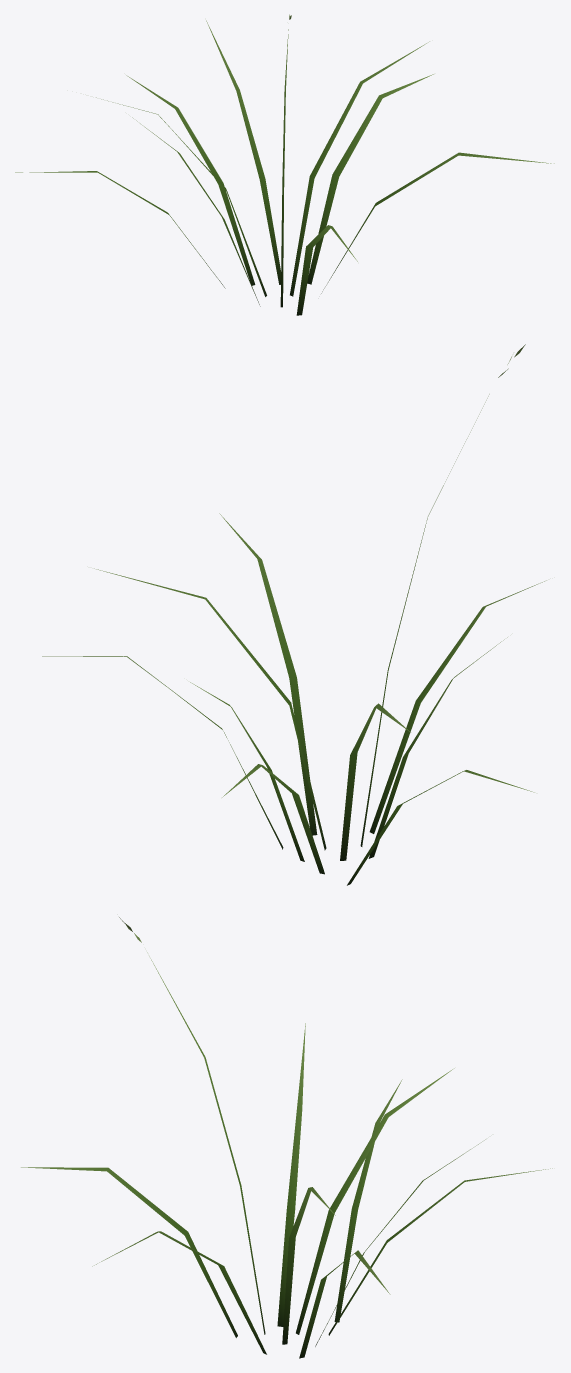
Rendered from b612_veg_VL_Grass_Meadow_C_1.glb.
3 renders of one model, top to bottom at view 1: azimuth 30°, elevation 25°; view 2: azimuth 150°, elevation 25°; view 3: azimuth 270°, elevation 25°, orthographic. The views are drawn at different scales.
Visible parts, largest first — view 1: Grass_Meadow_C_LOD1; view 2: Grass_Meadow_C_LOD1; view 3: Grass_Meadow_C_LOD1.
Boxes of the visible parts, x1,y1,x2,y2 form: Grass_Meadow_C_LOD1: [15, 14, 554, 315]; Grass_Meadow_C_LOD1: [42, 344, 546, 885]; Grass_Meadow_C_LOD1: [21, 917, 552, 1358].
Size of the model in its own units: 0.5772 by 0.4726 by 0.5991.
